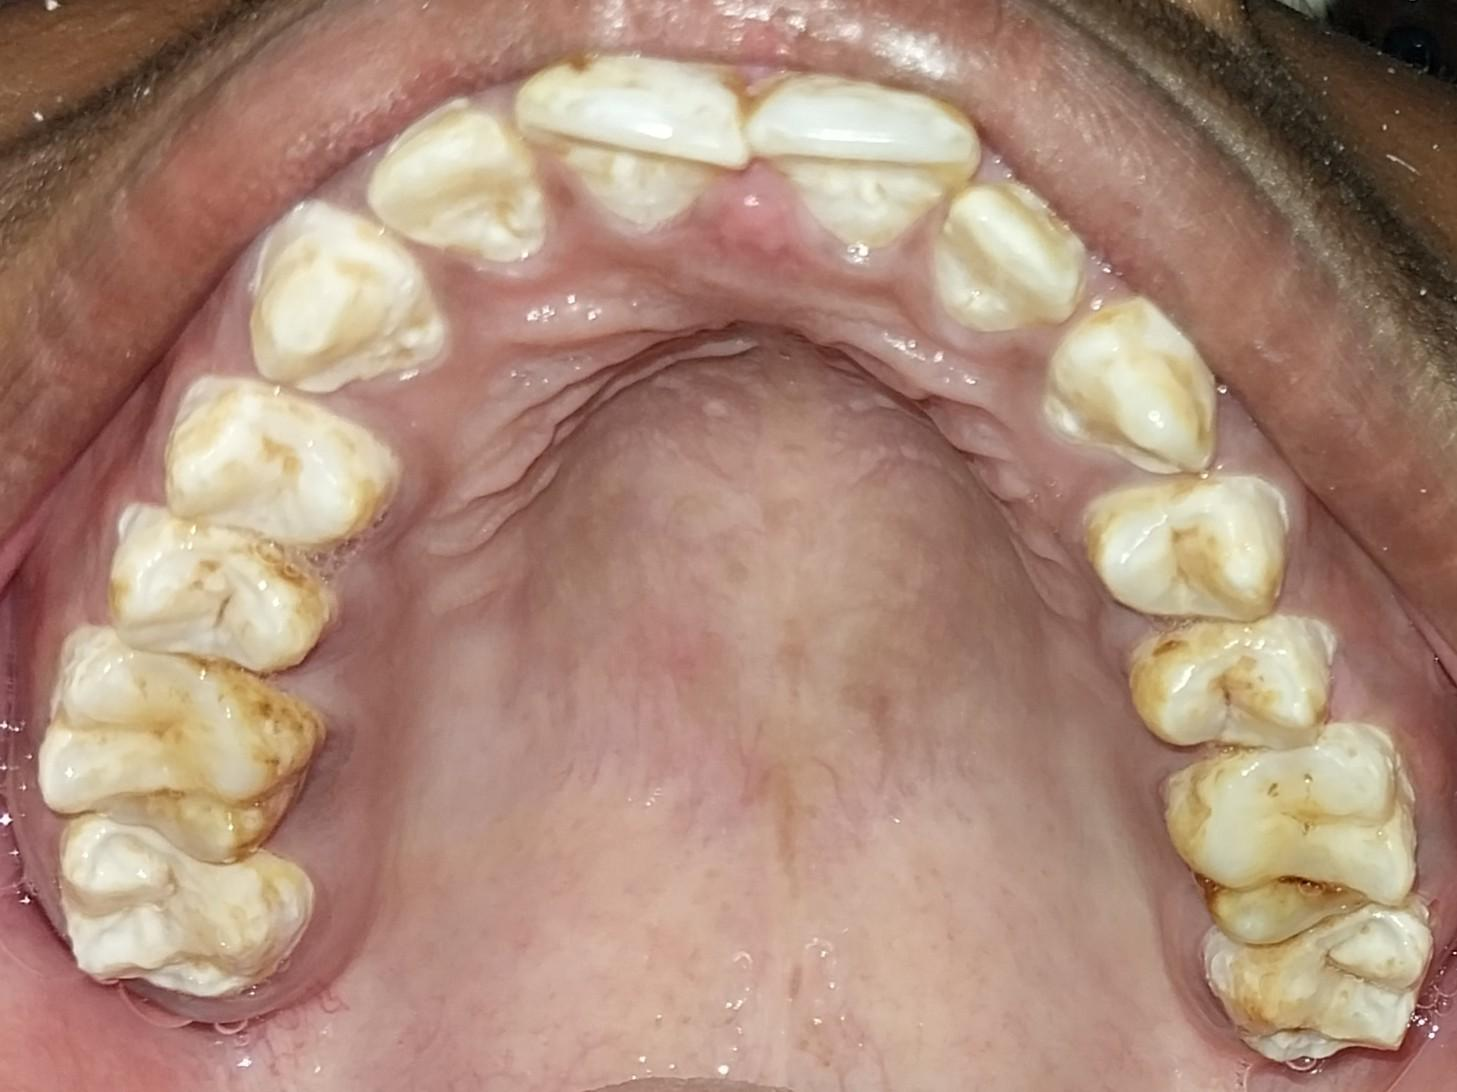D: (1183, 751, 1416, 941), (107, 517, 323, 675)
